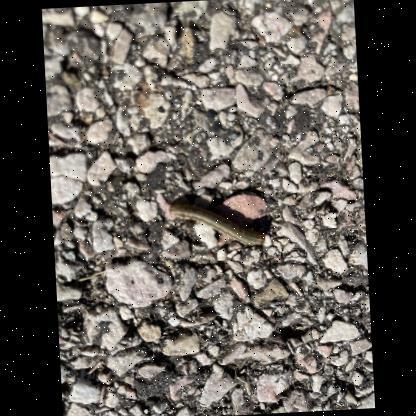Fall Armyworm Larvae: (167, 196, 267, 251)
